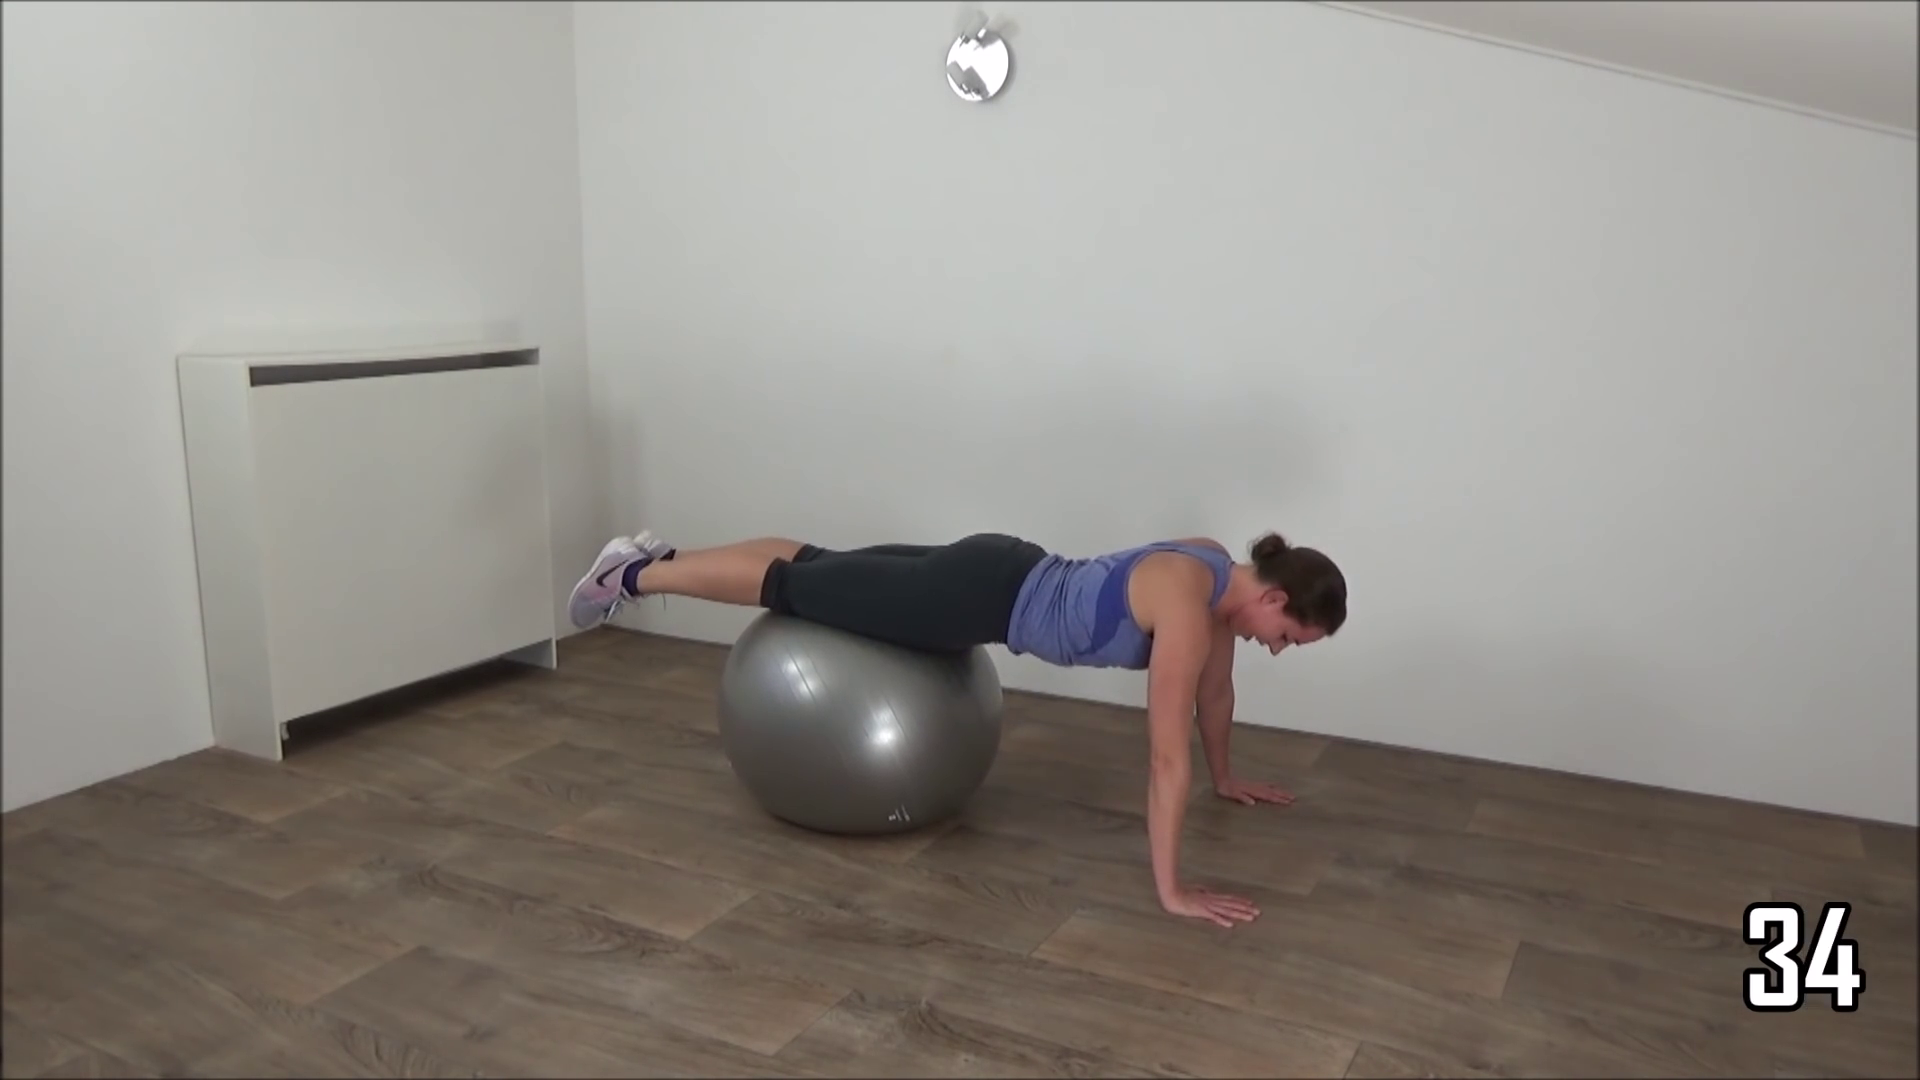yogaball: (700, 578, 1030, 851)
